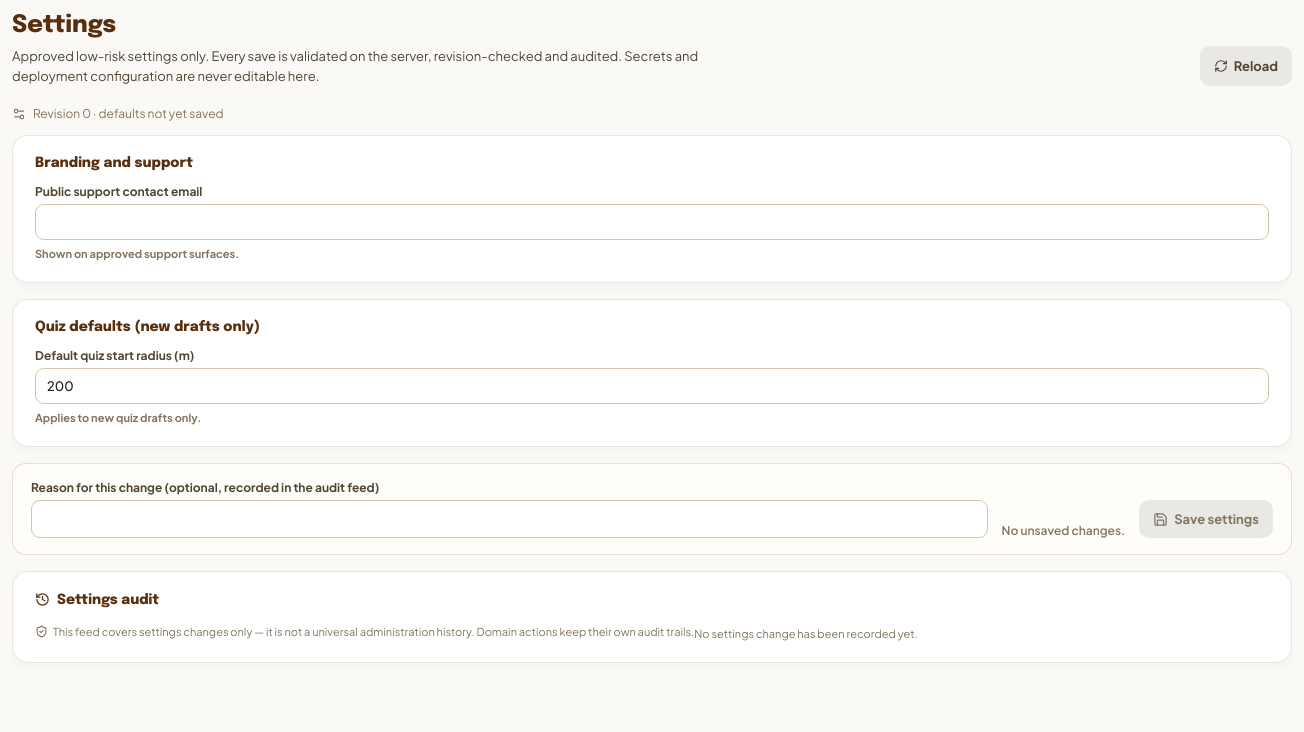
Test: SettingsPage › saves only changed keys with the expected revision and confirms from the server response
Expected: the text "No unsaved changes." is shown, left=1002, top=523, right=1125, bottom=538
Type "help@juanderquest.app" into the field labelled "Public support contact email" at [652, 222], box left=35, top=204, right=1269, bottom=240
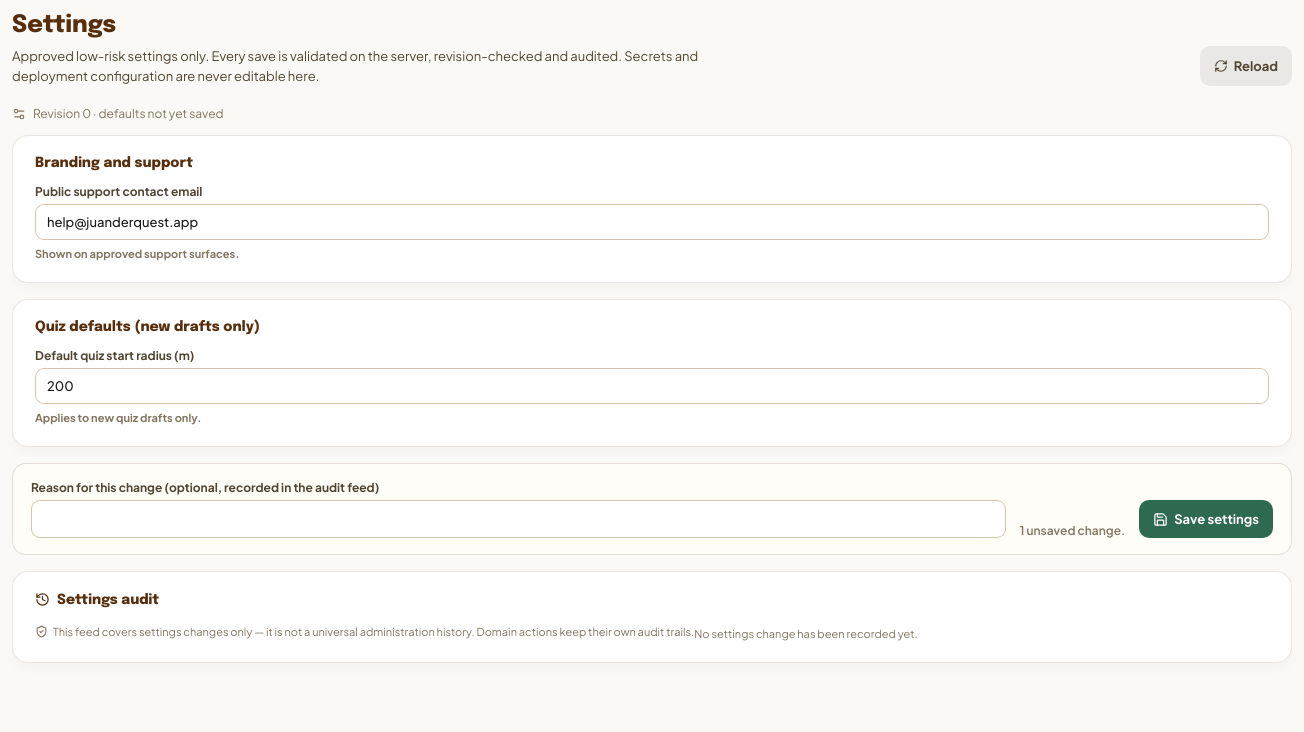
Now the text "1 unsaved change." is shown, box left=1020, top=523, right=1125, bottom=538
Click the button "Save settings" at [1206, 519], box left=1139, top=500, right=1273, bottom=538
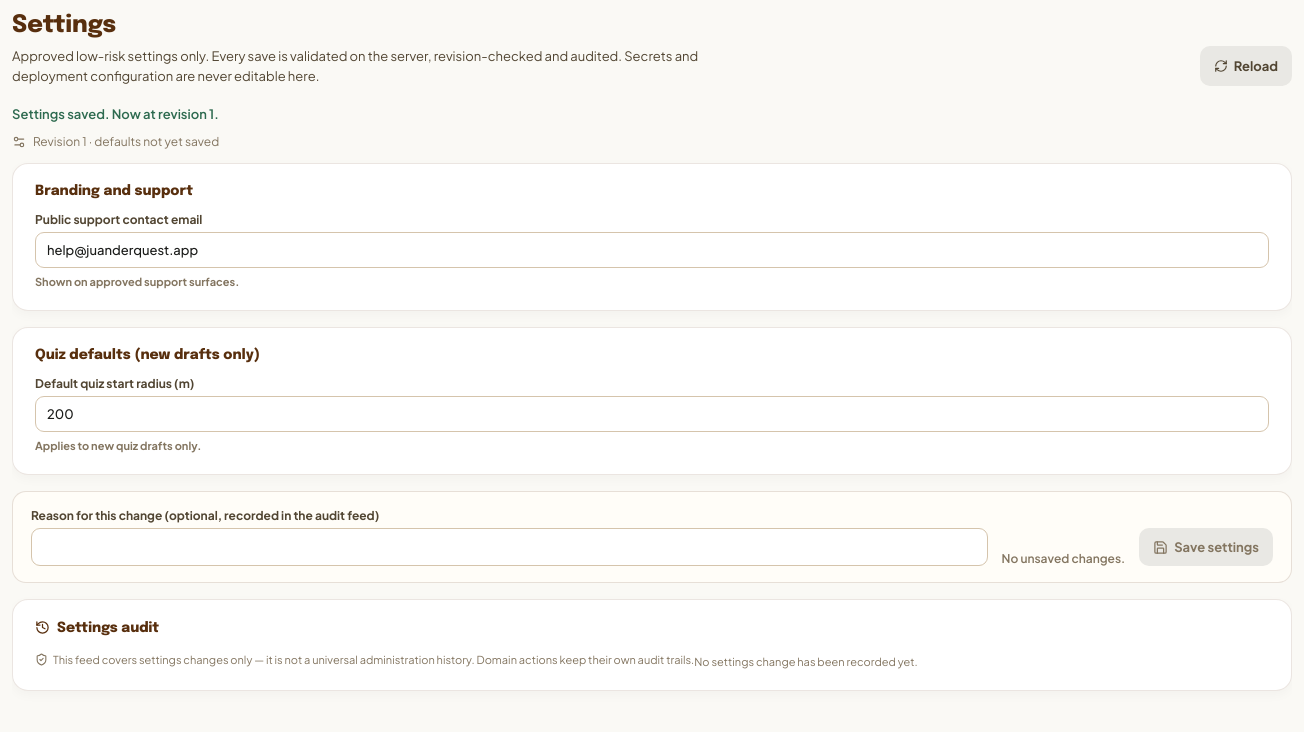
Now the text "Settings saved. Now at revision 1." is shown, box left=12, top=106, right=219, bottom=122
Now the text "Revision 1 · defaults not yet saved" is shown, box left=12, top=134, right=219, bottom=149
